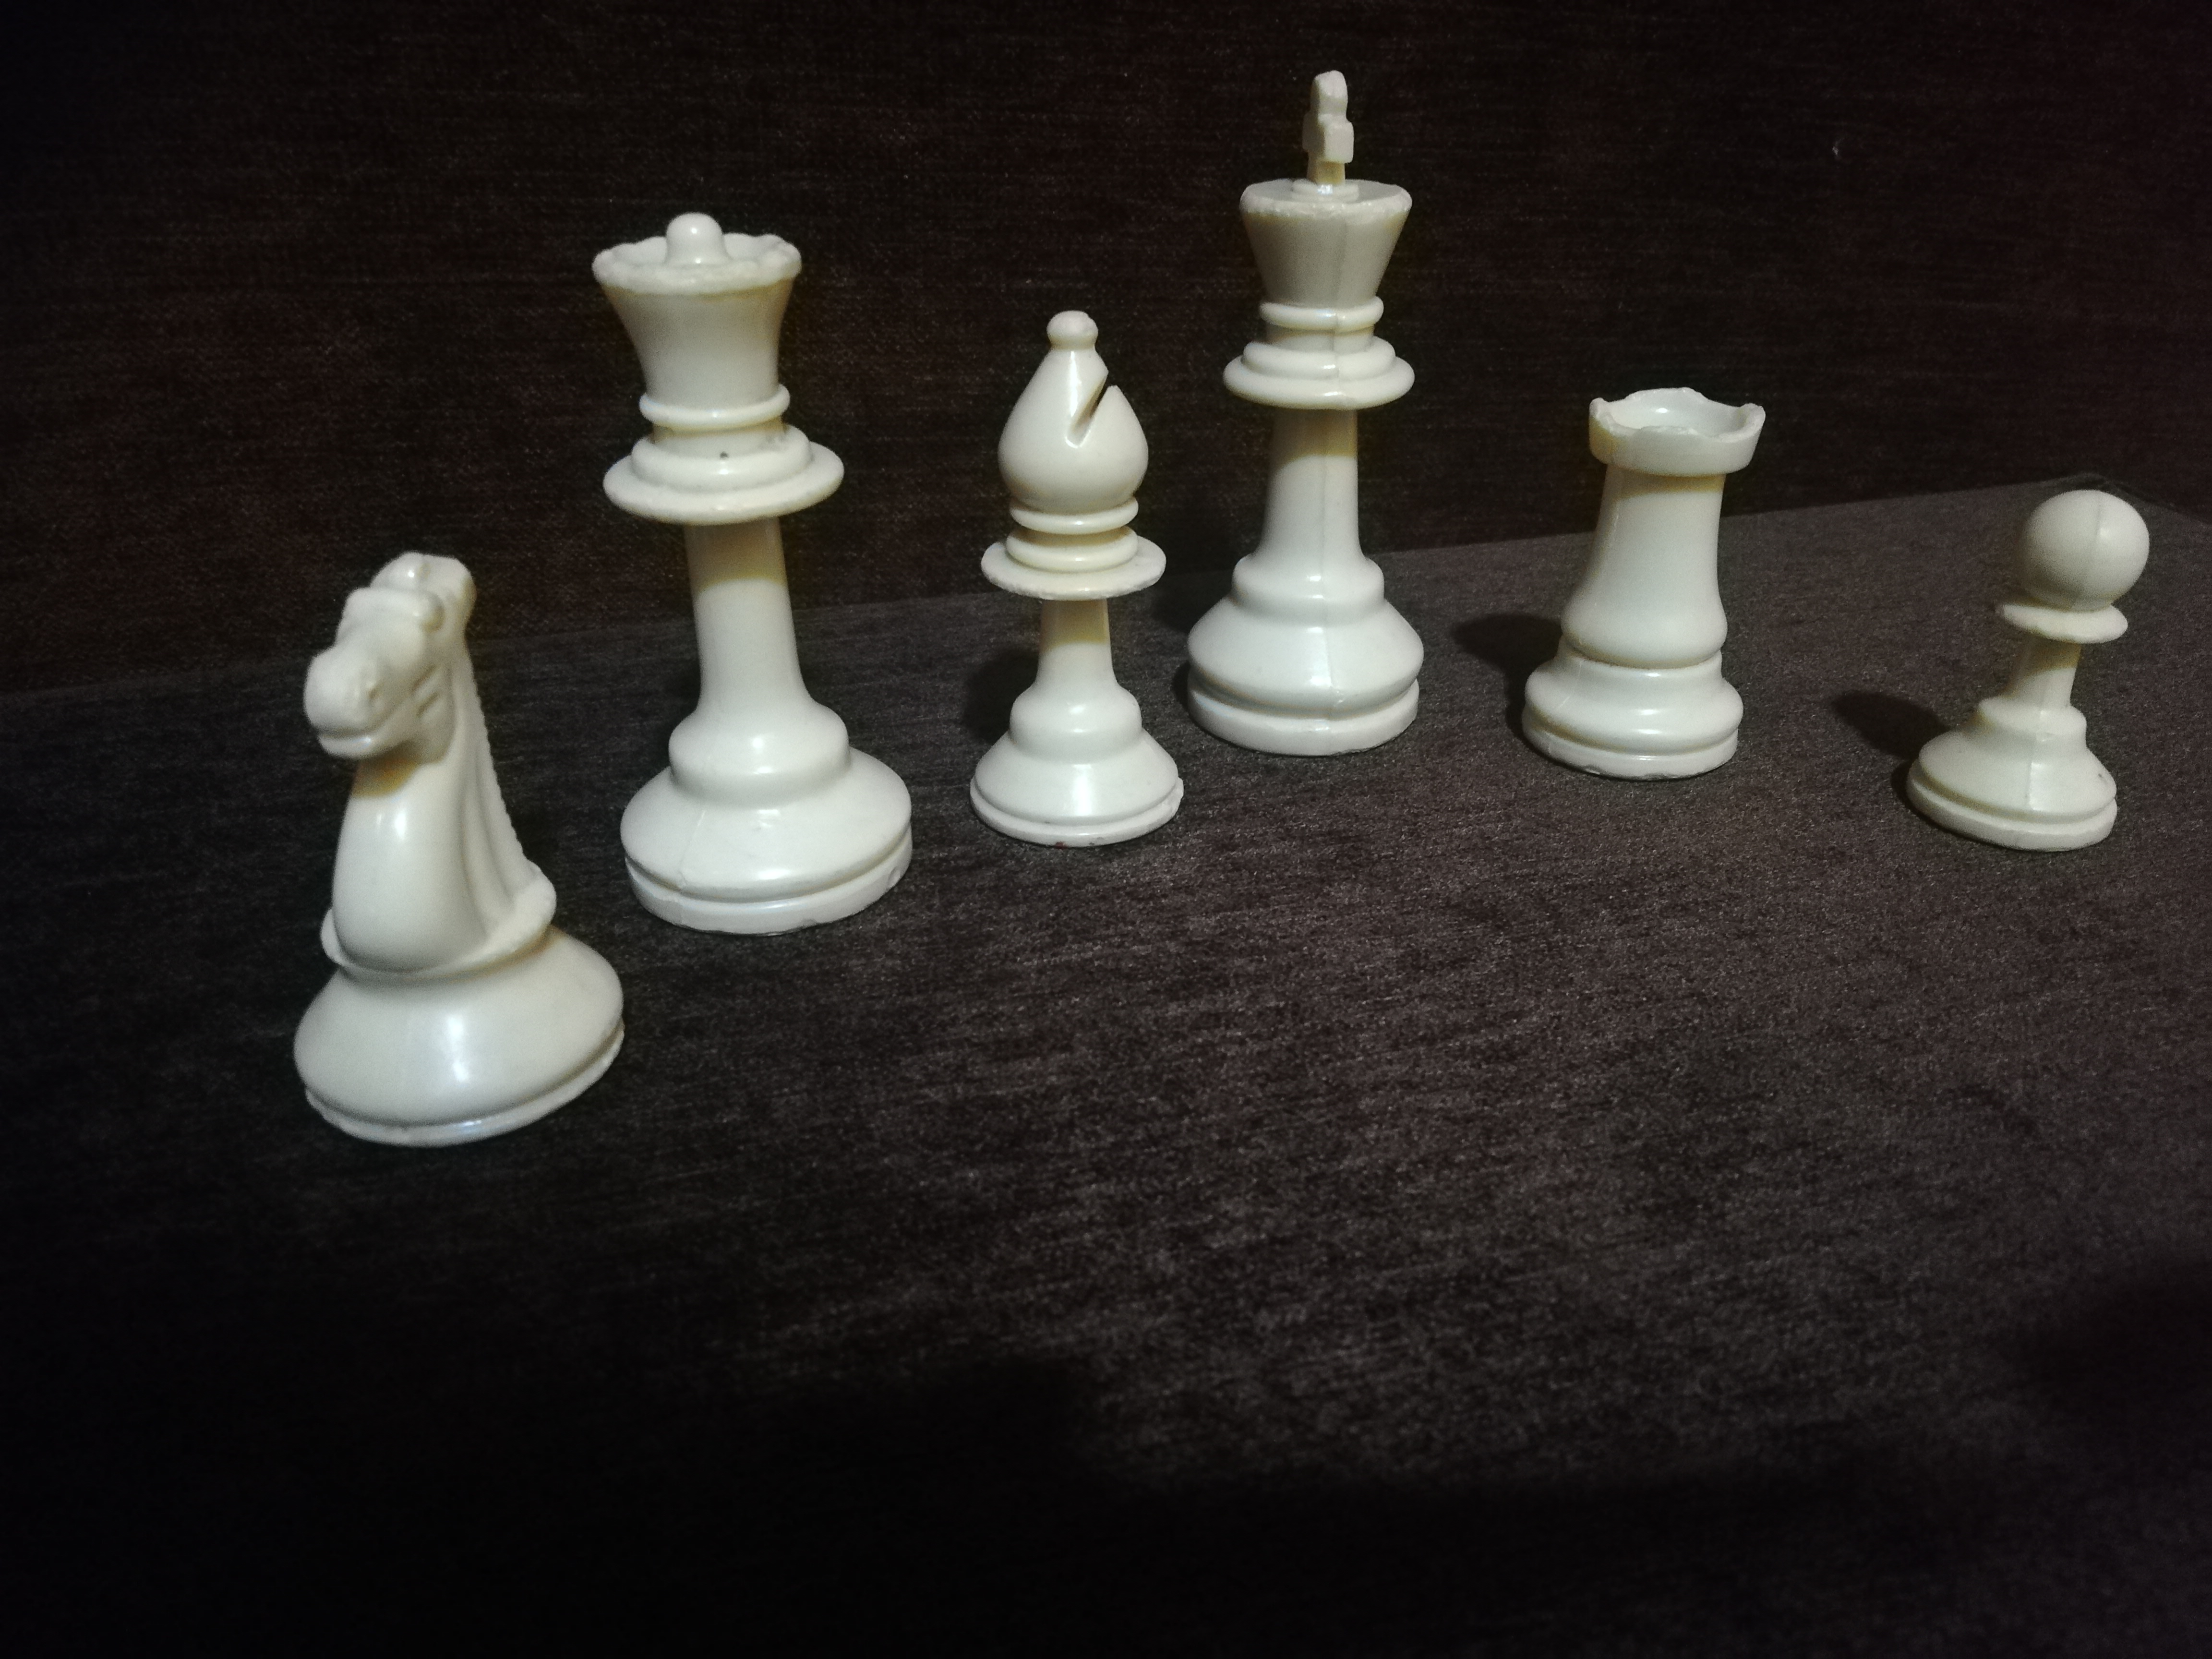Bishop: (947, 278, 1192, 836)
King: (1194, 68, 1457, 753)
Knight: (257, 543, 632, 1166)
Pawn: (1887, 488, 2155, 845)
Queen: (563, 216, 950, 911)
Rook: (1507, 388, 1780, 781)
